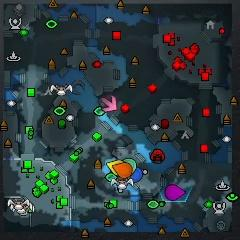p1: (128, 167, 144, 183)
p2: (124, 158, 136, 172)
p3: (165, 184, 185, 201)
p4: (106, 159, 124, 175)
p5: (112, 162, 133, 179)
x1: (101, 95, 117, 112)
